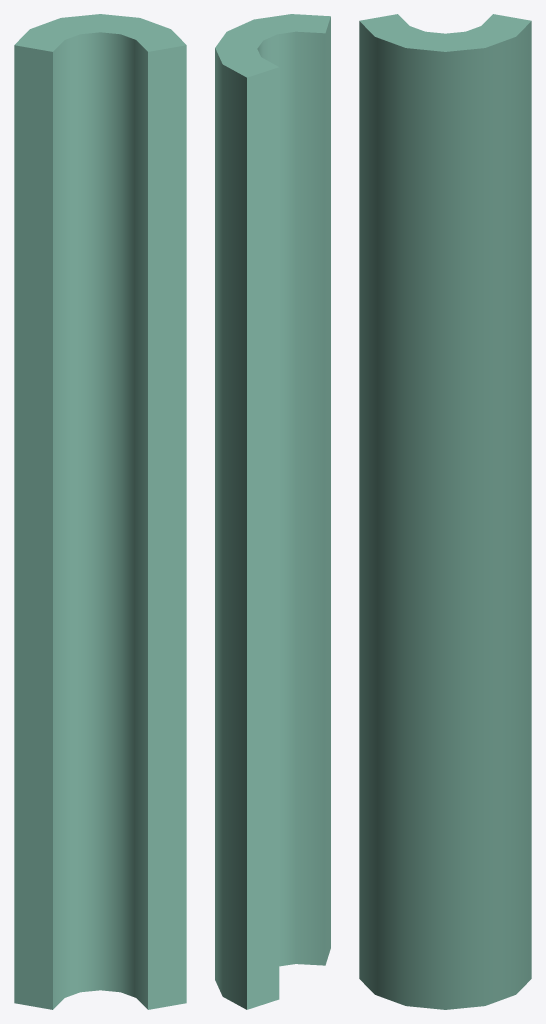
The picture shows the model from 3 angles, left to right: view 1: azimuth 90°, elevation 25°; view 2: azimuth 150°, elevation 25°; view 3: azimuth 270°, elevation 25°; orthographic projection. The views are drawn at different scales.
Parts seen in each view (by area): view 1: celeryStick; view 2: celeryStick; view 3: celeryStick.
Boxes of the visible parts, x1,y1,x2,y2 form: celeryStick: (14,14,186,1009); celeryStick: (215,14,330,1009); celeryStick: (359,14,531,1009).
Size of the model in its own units: 0.0459 by 0.54 by 0.0881.
